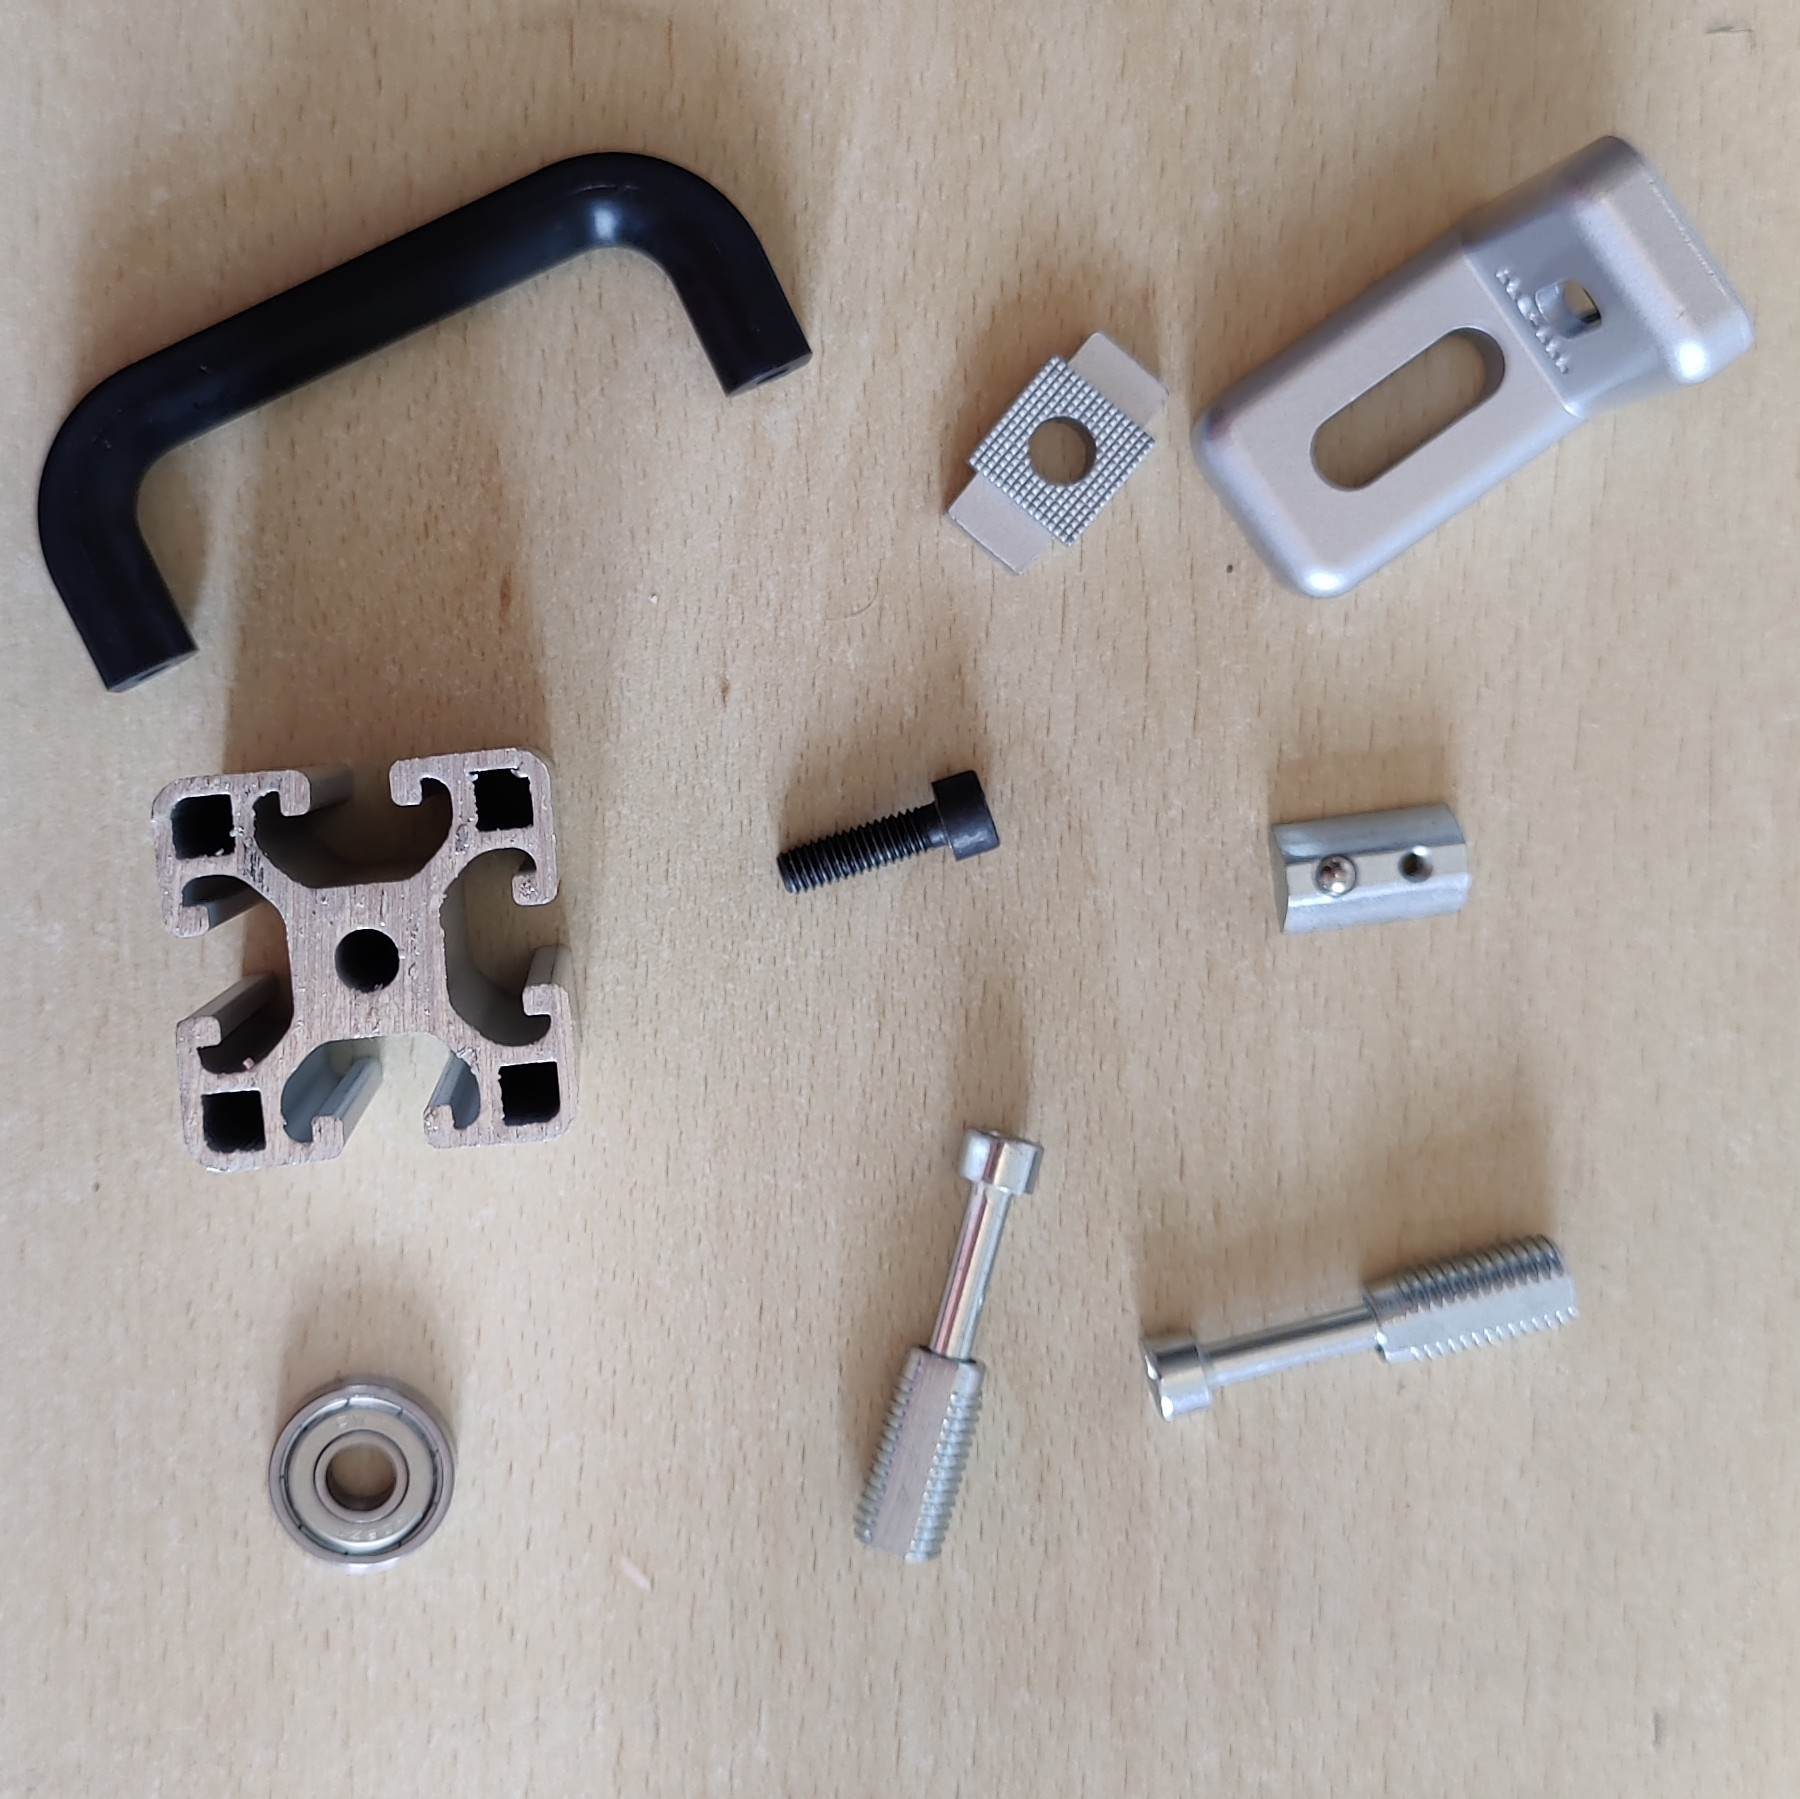Aluminium Extension: (147, 736, 586, 1181)
Ball Bearing: (262, 1367, 459, 1572)
Multiwinkel: (1187, 133, 1757, 603)
Pull Handle: (35, 148, 815, 695)
Shoulder Socket Head Cap Screw: (1136, 1227, 1584, 1427), (846, 1120, 1047, 1563)
Socket Head Cap Screw: (772, 764, 1001, 899)
T Nut Square: (940, 326, 1173, 578)
T Spring Nut: (1265, 796, 1472, 941)
